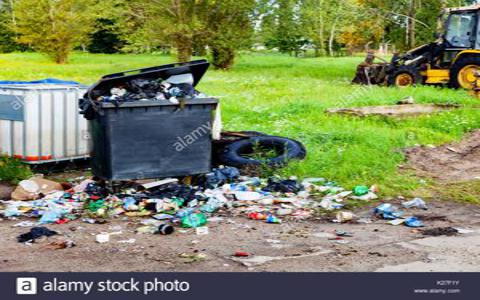overflowing garbage: (89, 75, 229, 227)
